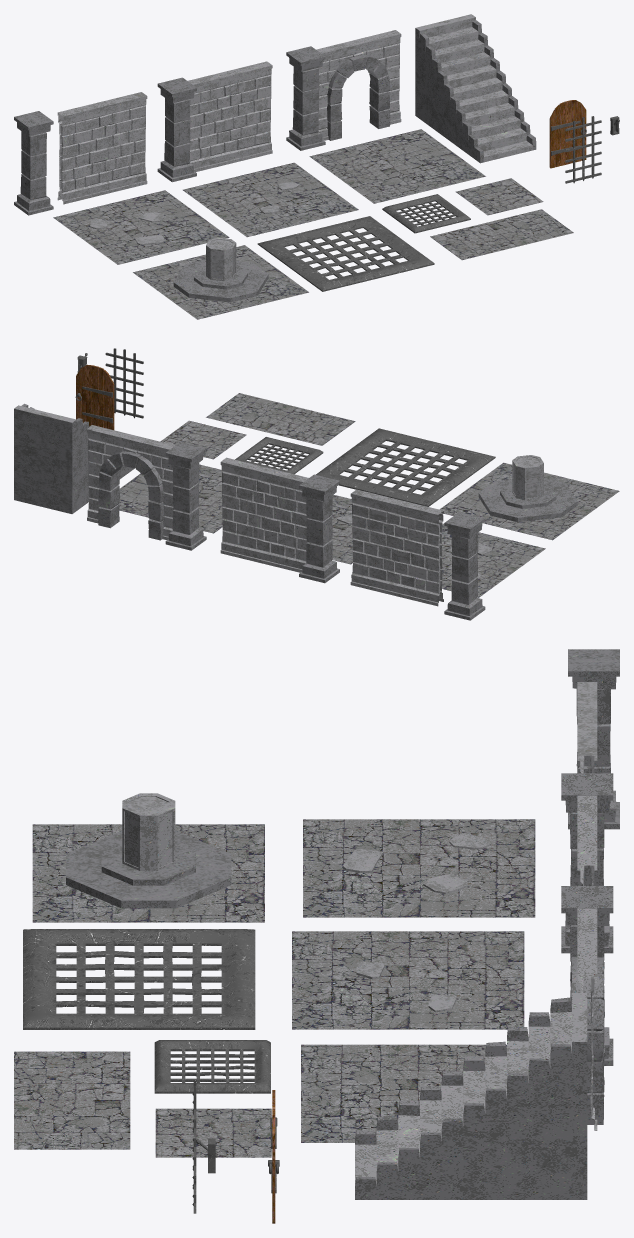
The model's file is ModularDungeonFreeEdition.fbx.
3 renders of one model, top to bottom at view 1: azimuth 30°, elevation 25°; view 2: azimuth 150°, elevation 25°; view 3: azimuth 270°, elevation 25°, orthographic. The views are drawn at different scales.
Parts seen in each view (by area): view 1: Stairs, Wall, Doorway, BaseWall, Altar, Floor1, Floor2, Floor3, Grille, Half_Floor1, BasePillar, Door (+3 smaller); view 2: Wall, Doorway, BaseWall, Altar, Stairs, Grille, Half_Floor1, BasePillar, Floor3, Floor1, Door, GrilleSmall (+3 smaller); view 3: Stairs, Altar, Floor3, Floor2, Grille, Floor1, Half_Floor1, Doorway, GrilleSmall, Quarter_floor, Wall, BasePillar (+1 smaller).
Part boxes in pixels (x1=…): Stairs: x1=415, y1=14, x2=536, y2=163; Wall: x1=157, y1=61, x2=272, y2=182; Doorway: x1=286, y1=30, x2=401, y2=150; BaseWall: x1=57, y1=92, x2=147, y2=204; Altar: x1=133, y1=237, x2=308, y2=319; Floor1: x1=309, y1=129, x2=485, y2=203; Floor2: x1=183, y1=162, x2=358, y2=237; Floor3: x1=53, y1=190, x2=229, y2=264; Grille: x1=257, y1=216, x2=434, y2=291; Half_Floor1: x1=430, y1=209, x2=573, y2=260; BasePillar: x1=14, y1=111, x2=53, y2=215; Door: x1=549, y1=100, x2=586, y2=168; Wall: x1=220, y1=457, x2=339, y2=583; Doorway: x1=87, y1=425, x2=206, y2=550; BaseWall: x1=350, y1=489, x2=443, y2=606; Altar: x1=439, y1=455, x2=619, y2=540; Stairs: x1=14, y1=403, x2=133, y2=513; Grille: x1=316, y1=428, x2=495, y2=506; Half_Floor1: x1=206, y1=393, x2=355, y2=445; BasePillar: x1=444, y1=512, x2=485, y2=620; Floor3: x1=441, y1=523, x2=545, y2=597; Floor1: x1=119, y1=464, x2=222, y2=533; Door: x1=75, y1=364, x2=114, y2=429; GrilleSmall: x1=235, y1=437, x2=323, y2=474; Stairs: x1=355, y1=993, x2=587, y2=1199; Altar: x1=32, y1=793, x2=264, y2=922; Floor3: x1=303, y1=819, x2=535, y2=917; Floor2: x1=292, y1=931, x2=524, y2=1029; Grille: x1=23, y1=929, x2=255, y2=1029; Floor1: x1=301, y1=1044, x2=506, y2=1142; Half_Floor1: x1=14, y1=1051, x2=130, y2=1149; Doorway: x1=561, y1=886, x2=613, y2=1130; GrilleSmall: x1=154, y1=1040, x2=270, y2=1093; Quarter_floor: x1=155, y1=1108, x2=271, y2=1157; Wall: x1=561, y1=773, x2=613, y2=953; BasePillar: x1=568, y1=649, x2=619, y2=829.
Size of the model in its own units: 1750 by 303 by 1043.
5 materials, 5 textured.
